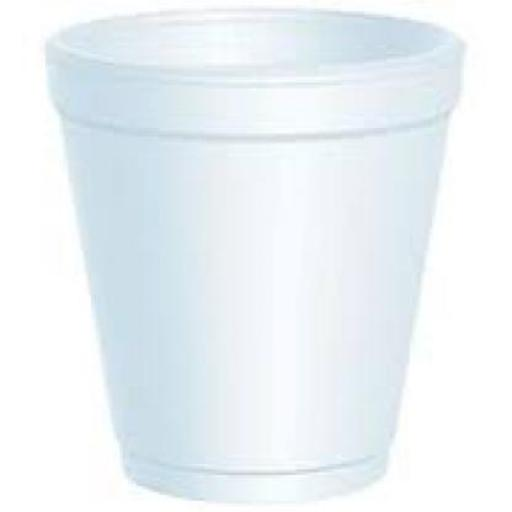paper: (42, 3, 461, 498)
